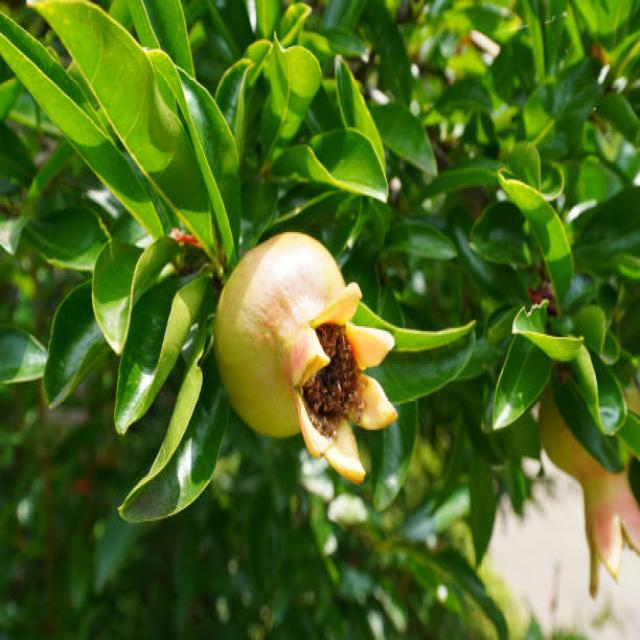Unripe: (216, 229, 402, 478)
